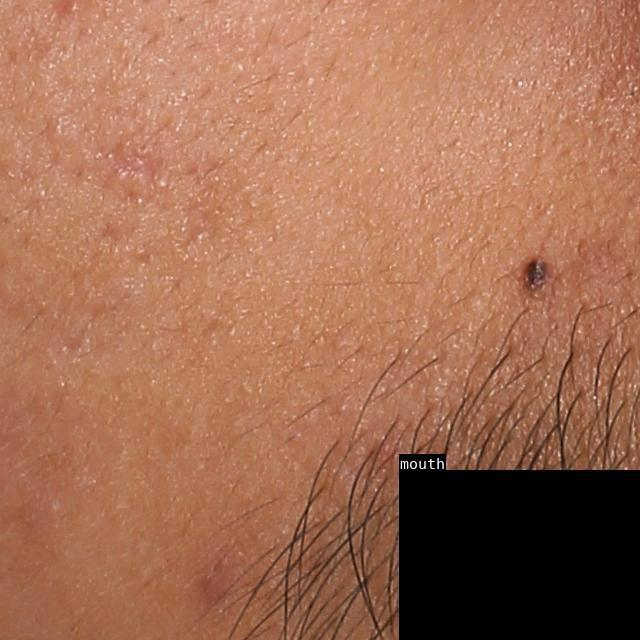atrophic_scar: (164, 161, 280, 269), (91, 139, 168, 191)
nevus: (515, 251, 552, 305)
